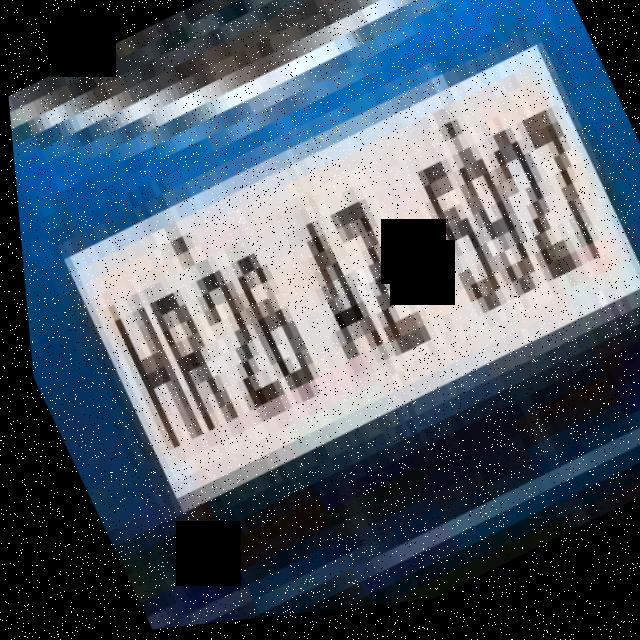5: (397, 145, 513, 347)
6: (216, 235, 324, 424)
7: (505, 96, 622, 296)
9: (436, 132, 549, 332)
A: (269, 195, 392, 396)
H: (89, 281, 212, 484)
R: (130, 263, 248, 465)
Z: (305, 168, 440, 385)
